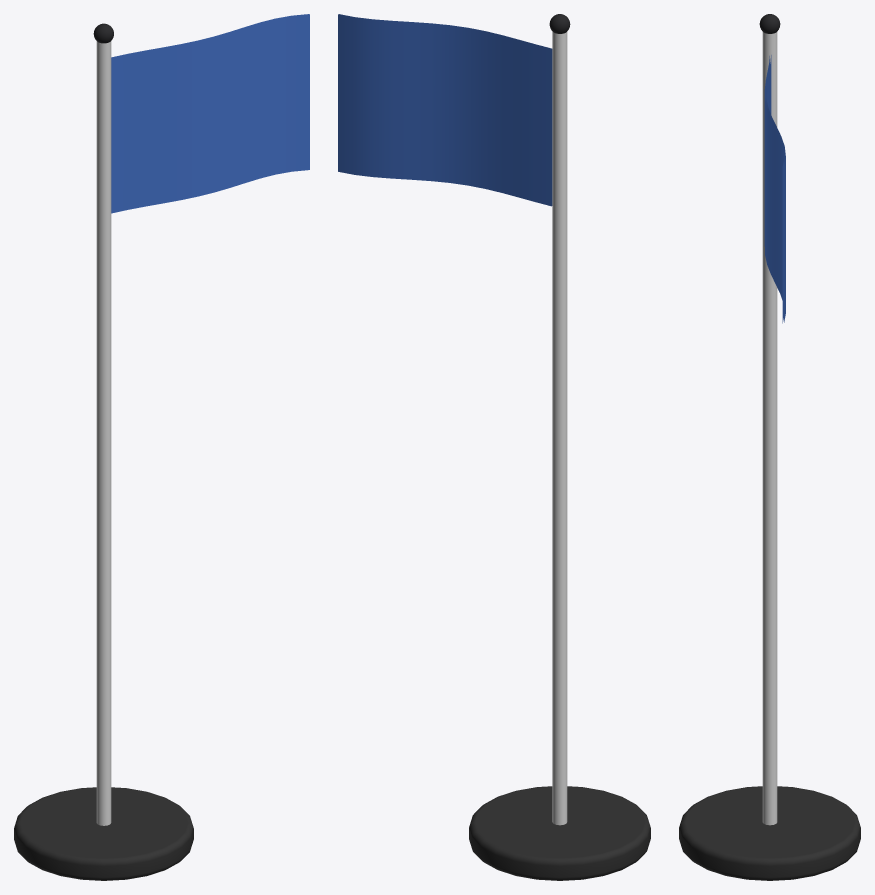
The model's file is flag_blue.glb.
The picture shows the model from 3 angles, left to right: view 1: azimuth 30°, elevation 25°; view 2: azimuth 150°, elevation 25°; view 3: azimuth 270°, elevation 25°; orthographic projection.
Parts seen in each view (by area): view 1: SM_flag_blue; view 2: SM_flag_blue; view 3: SM_flag_blue.
Boxes of the visible parts, bbox=[...] form: SM_flag_blue: bbox=[14, 14, 309, 880]; SM_flag_blue: bbox=[338, 14, 650, 880]; SM_flag_blue: bbox=[679, 14, 860, 880].
Bounding box in the file's own units: 0.82 × 2.22 × 0.44.
